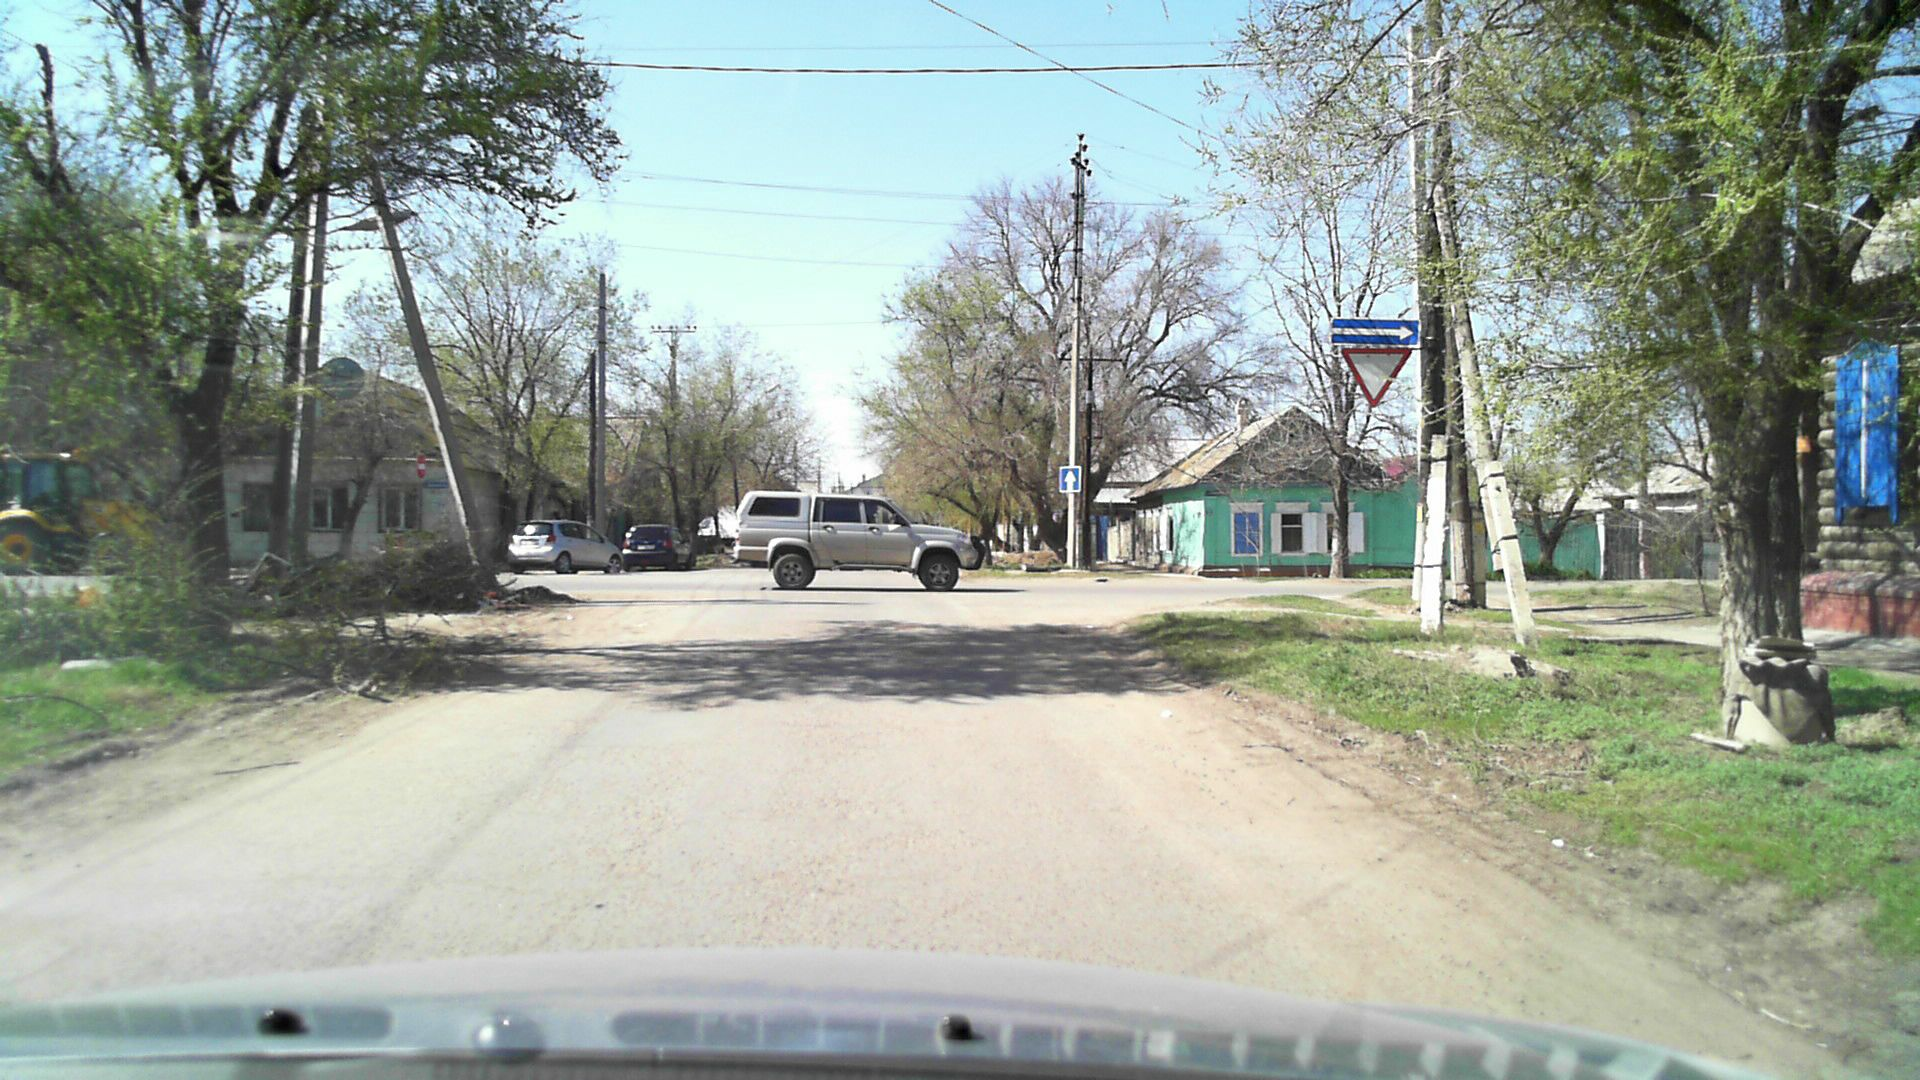One-Way Traffic: (1331, 318, 1420, 345)
